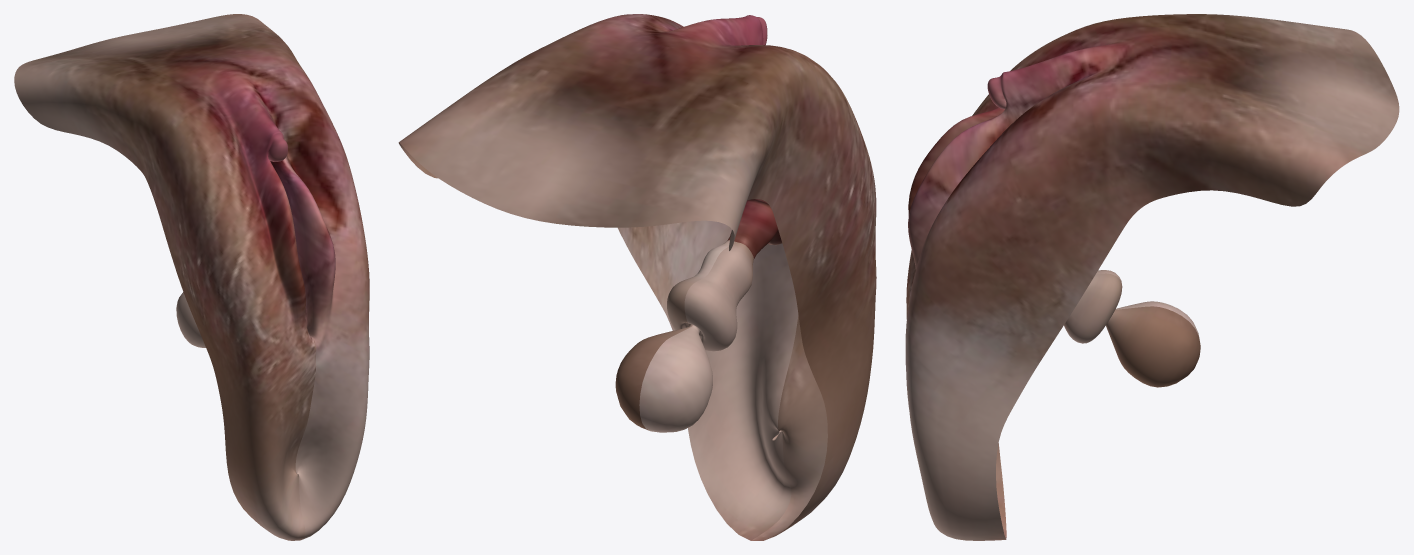
The model's file is vagina0.Fbx.
3 renders of one model, left to right at view 1: azimuth 30°, elevation 25°; view 2: azimuth 150°, elevation 25°; view 3: azimuth 270°, elevation 25°, orthographic. The views are drawn at different scales.
Parts seen in each view (by area): view 1: CC_Base_Pivot; view 2: CC_Base_Pivot; view 3: CC_Base_Pivot.
Boxes of the visible parts, left/top/right/bottom form: CC_Base_Pivot: left=14, top=14, right=369, bottom=540; CC_Base_Pivot: left=398, top=14, right=876, bottom=540; CC_Base_Pivot: left=905, top=14, right=1399, bottom=540.
Size of the model in its own units: 6.74 by 9.78 by 10.74.
Materials: 1 (1 with a texture image).
